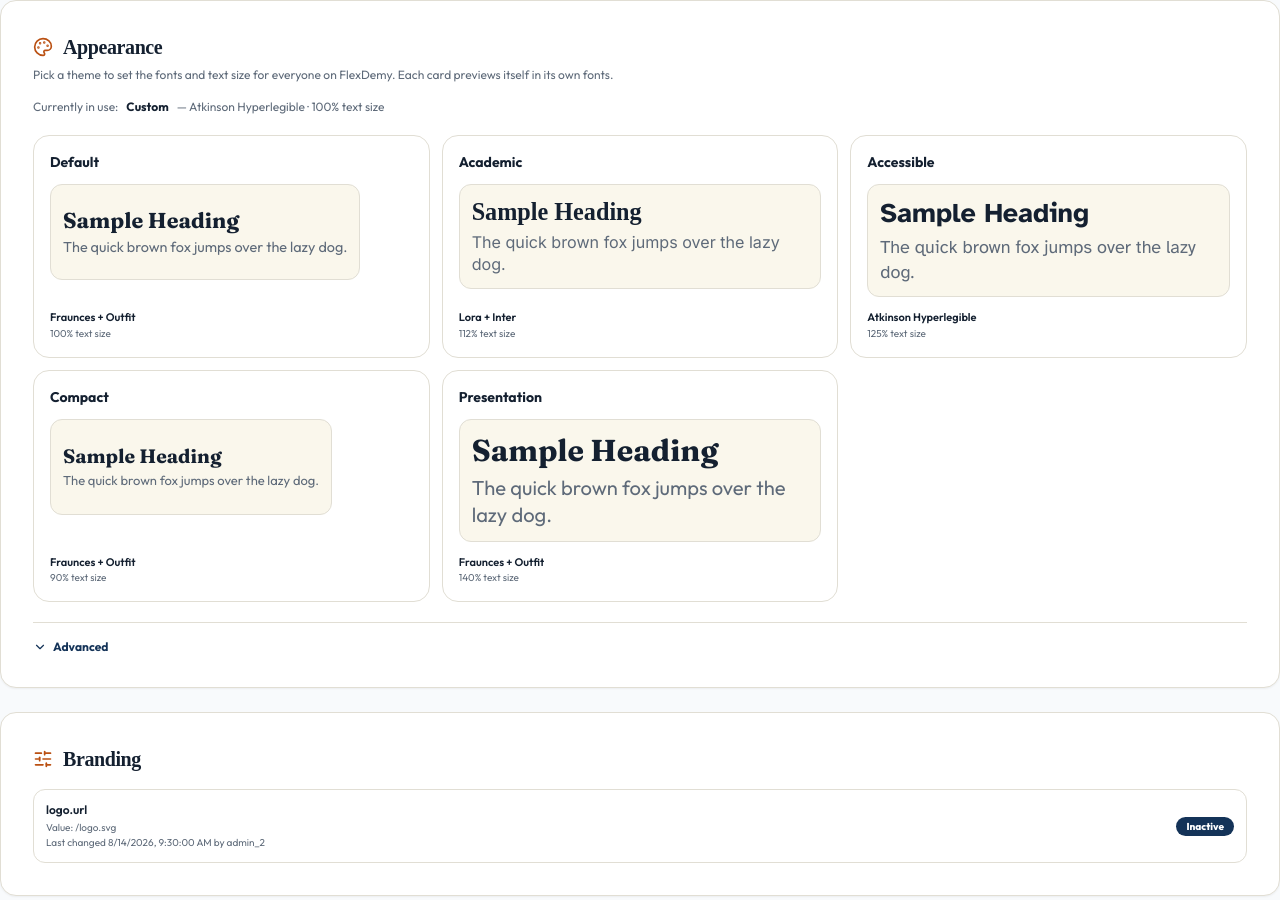
Test: Settings › clicking a theme card applies the combination and updates both the Font and FontSize rows
Click the button with aria-label "Apply the Academic theme": (640, 246) [442,135,838,358]
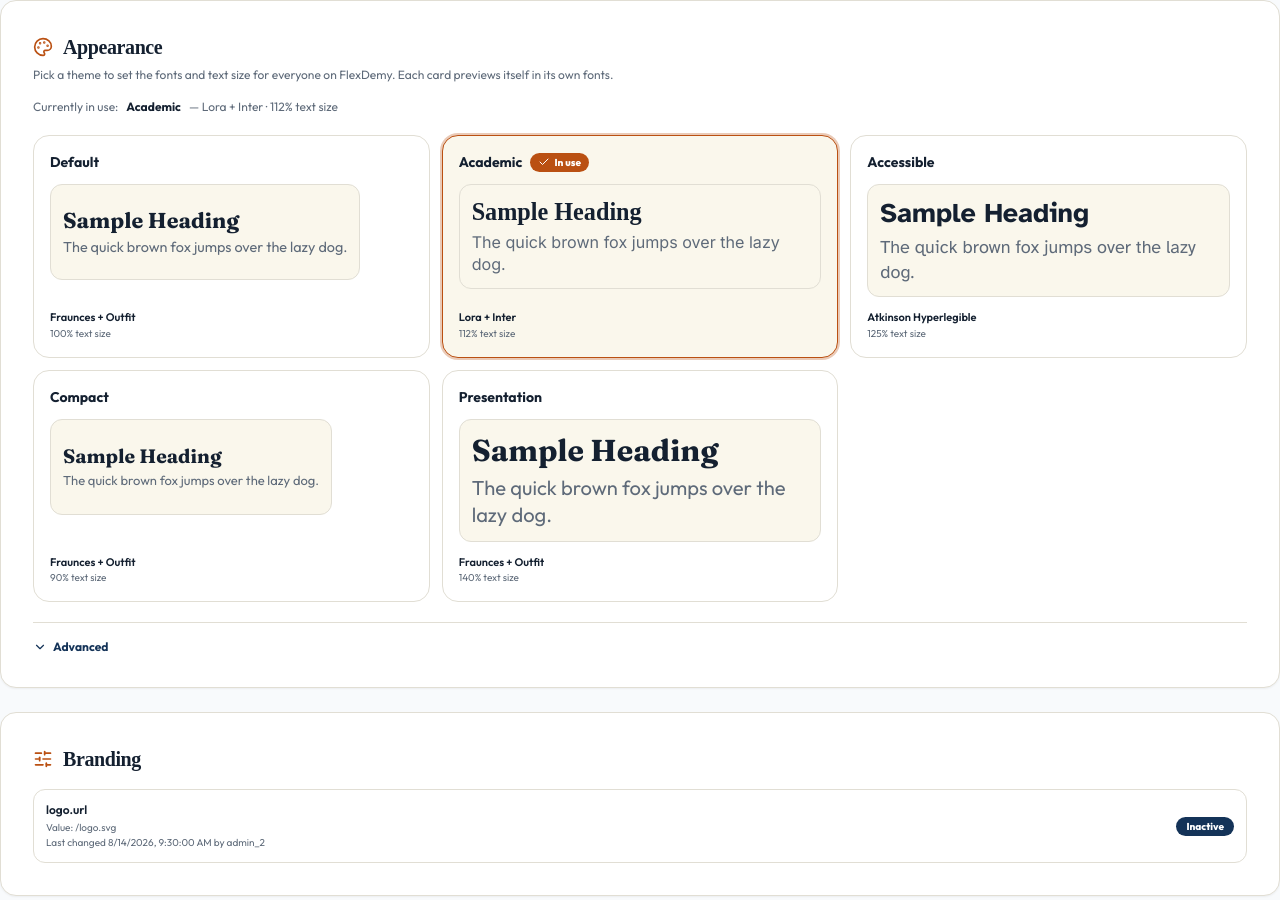
expect the text "— Lora + Inter · 112% text size" is shown: met, box [189,99,338,115]
